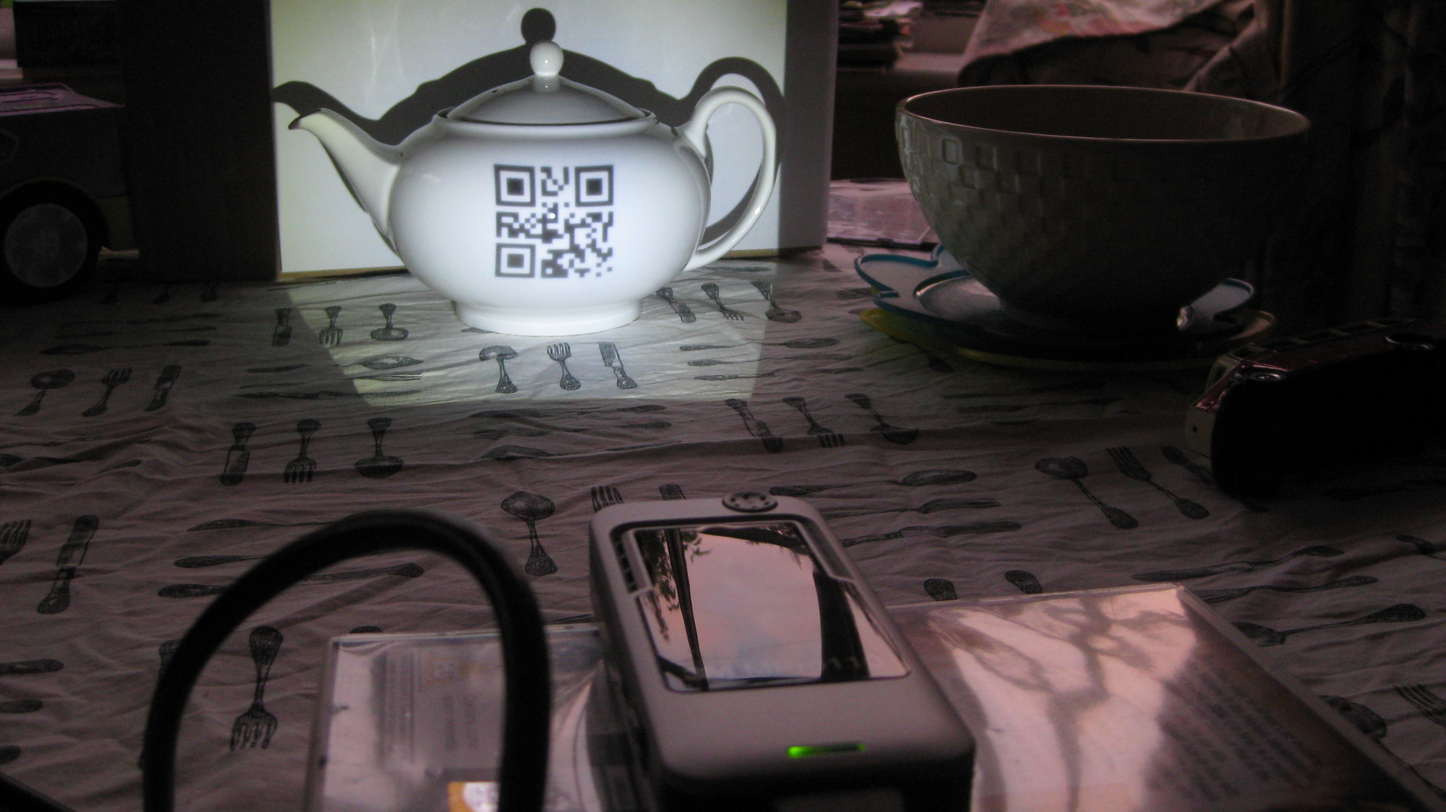QR-CODE: (494, 165, 613, 278)
